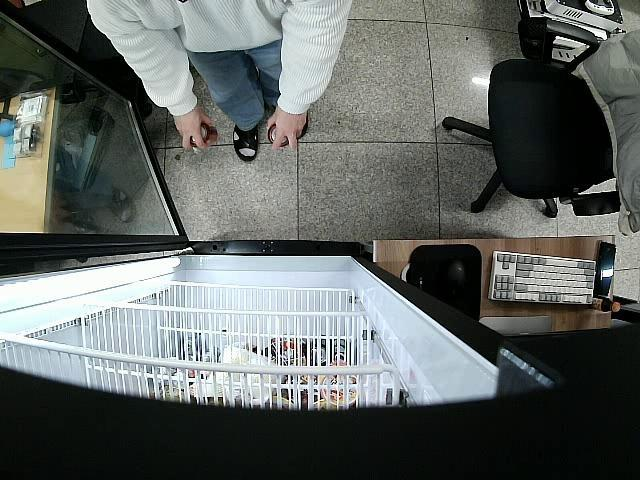11_cocaColaZero: (190, 122, 218, 146), (268, 125, 289, 146)
